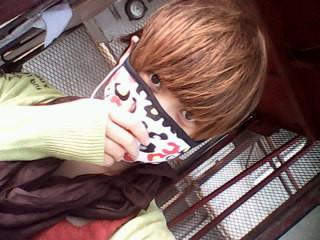OK: (104, 59, 215, 161)
